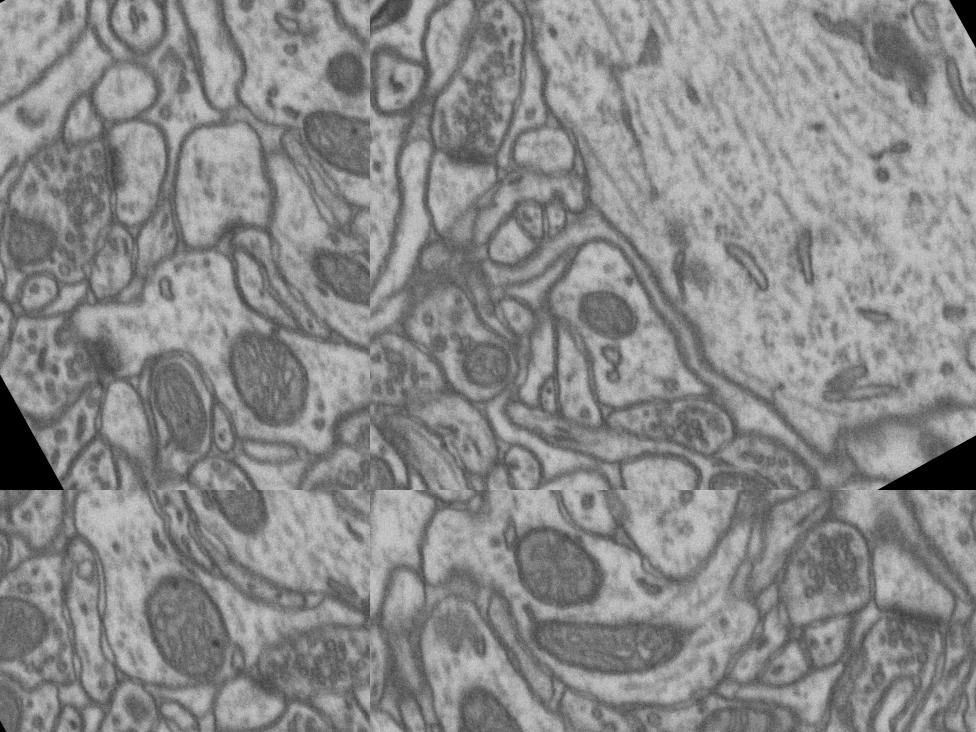mitochondria: (526, 554, 714, 722), (120, 550, 254, 700), (202, 307, 335, 454), (494, 497, 632, 638), (286, 64, 370, 222), (127, 343, 232, 467), (558, 258, 669, 374), (439, 316, 537, 408), (294, 217, 370, 332), (683, 432, 807, 490), (0, 572, 68, 676), (0, 191, 74, 284), (437, 664, 536, 732), (689, 675, 803, 732), (186, 490, 285, 549), (312, 39, 370, 111), (370, 422, 420, 490), (0, 658, 42, 732), (287, 456, 370, 490), (947, 638, 976, 732), (60, 470, 106, 490)
